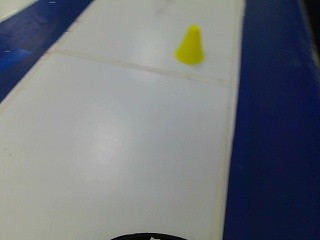cone: (174, 22, 210, 70)
